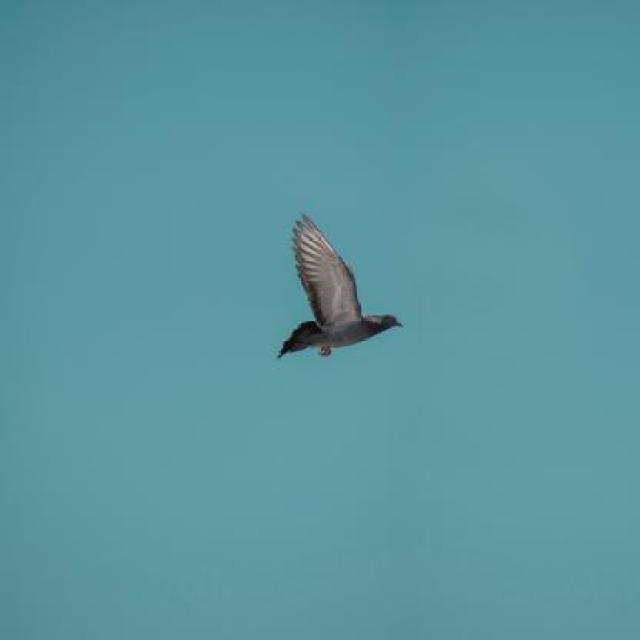bird: (277, 212, 405, 360)
